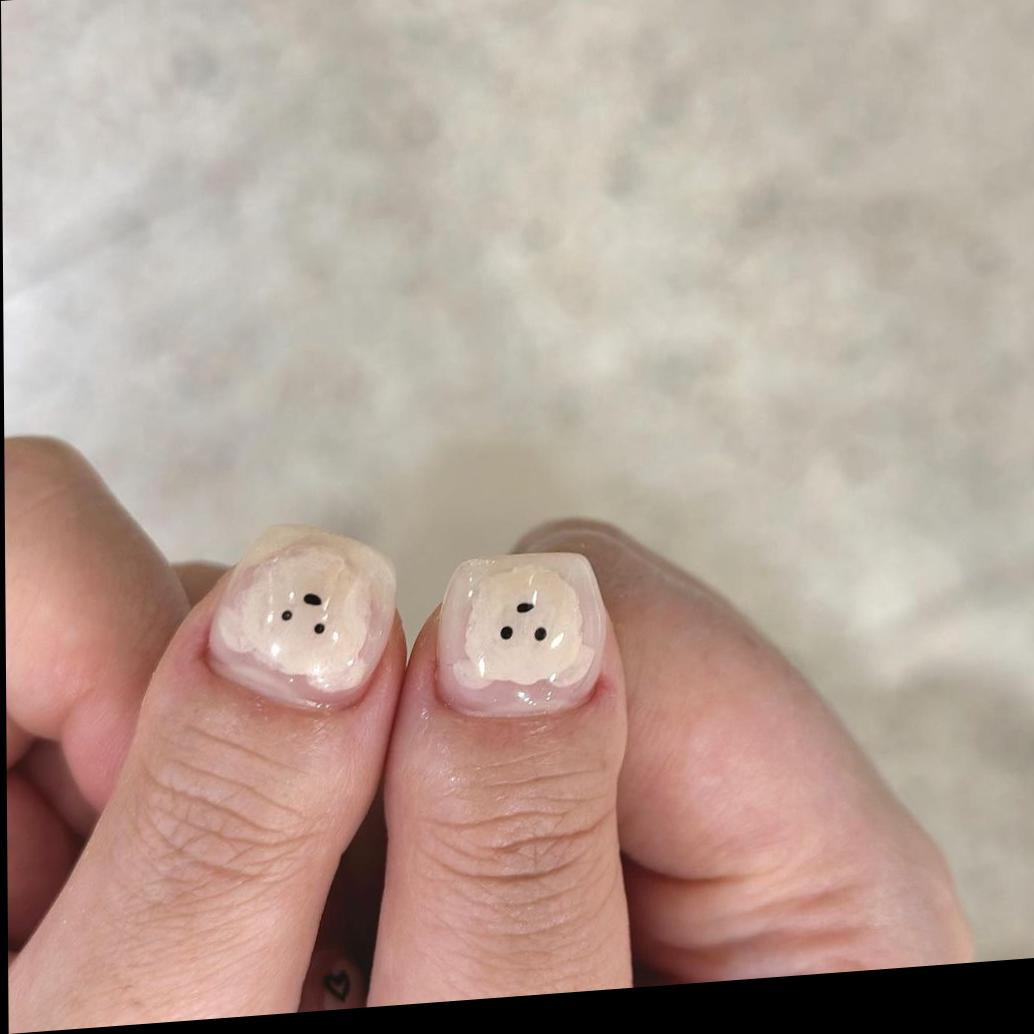nail: (204, 518, 400, 722), (433, 544, 610, 725)
